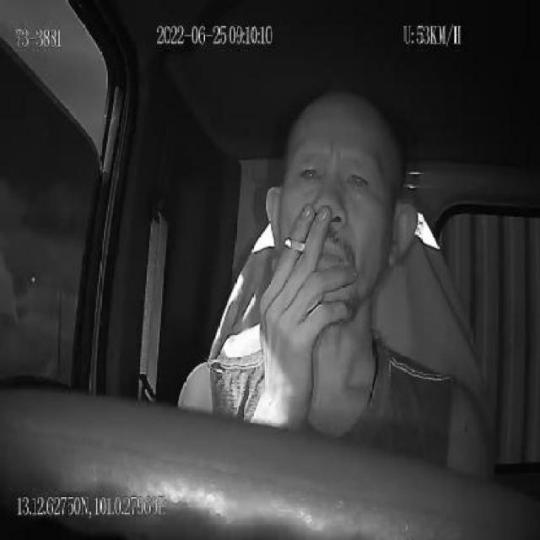smoking: (284, 234, 305, 253)
